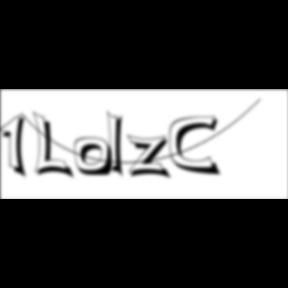1: (1, 114, 34, 182)
C: (170, 115, 224, 178)
L: (33, 110, 77, 182)
l: (107, 108, 130, 182)
o: (74, 137, 116, 179)
z: (127, 134, 176, 182)
